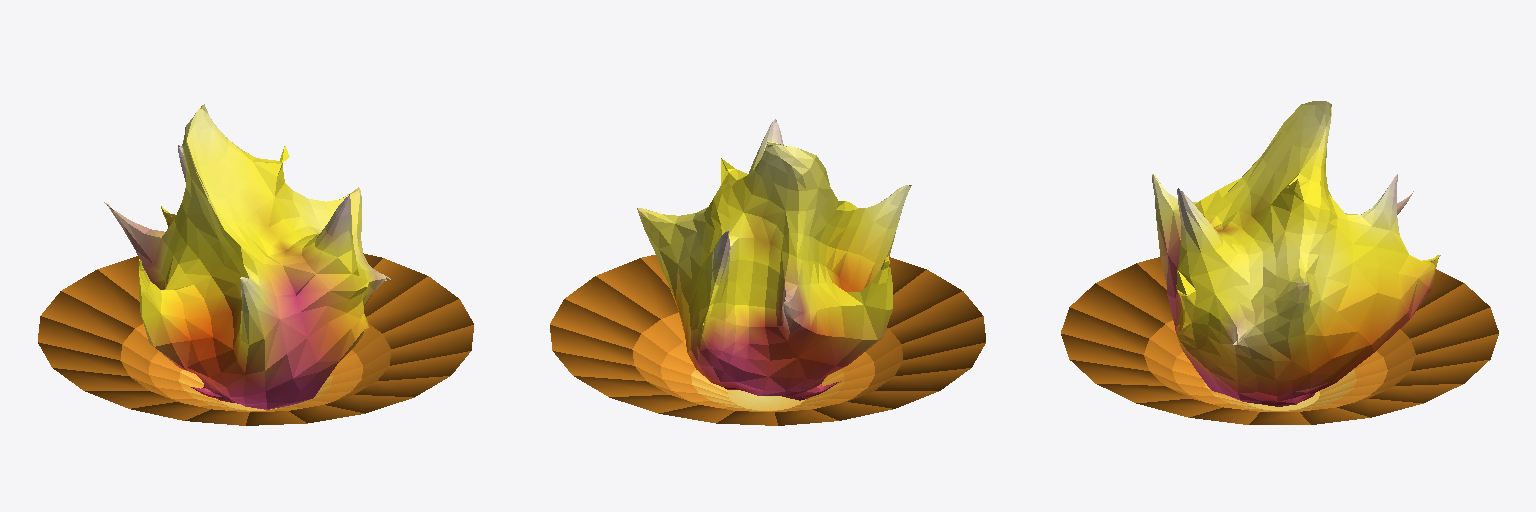
The picture shows the model from 3 angles: view 1: azimuth 30°, elevation 25°; view 2: azimuth 150°, elevation 25°; view 3: azimuth 270°, elevation 25°; orthographic projection.
Visible parts, largest first — view 1: PM3D_PolyMesh3D_4; view 2: PM3D_PolyMesh3D_4; view 3: PM3D_PolyMesh3D_4.
Part boxes in pixels (x1,y1,x2,y2): PM3D_PolyMesh3D_4: (38, 104, 473, 425); PM3D_PolyMesh3D_4: (550, 119, 985, 425); PM3D_PolyMesh3D_4: (1061, 101, 1498, 424).
Bounding box in the file's own units: 48.85 × 34.63 × 49.35.
1 materials, 1 textured.